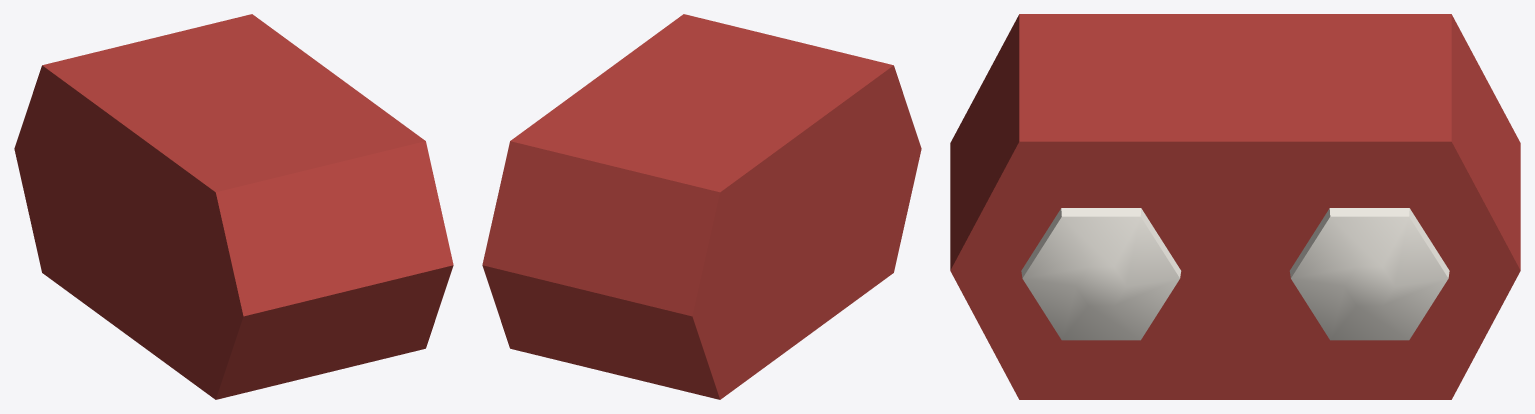
Rendered from projector_lod2.glb.
The picture shows the model from 3 angles, left to right: view 1: azimuth 30°, elevation 25°; view 2: azimuth 150°, elevation 25°; view 3: azimuth 270°, elevation 25°; orthographic projection. The views are drawn at different scales.
Parts seen in each view (by area): view 1: projector_lod2; view 2: projector_lod2; view 3: projector_lod2.
Part boxes in pixels (box(x1,y1,x2,y2)): projector_lod2: box(14, 14, 453, 399); projector_lod2: box(482, 14, 921, 399); projector_lod2: box(950, 14, 1520, 399).
Bounding box in the file's own units: 0.101 × 0.085 × 0.17.
